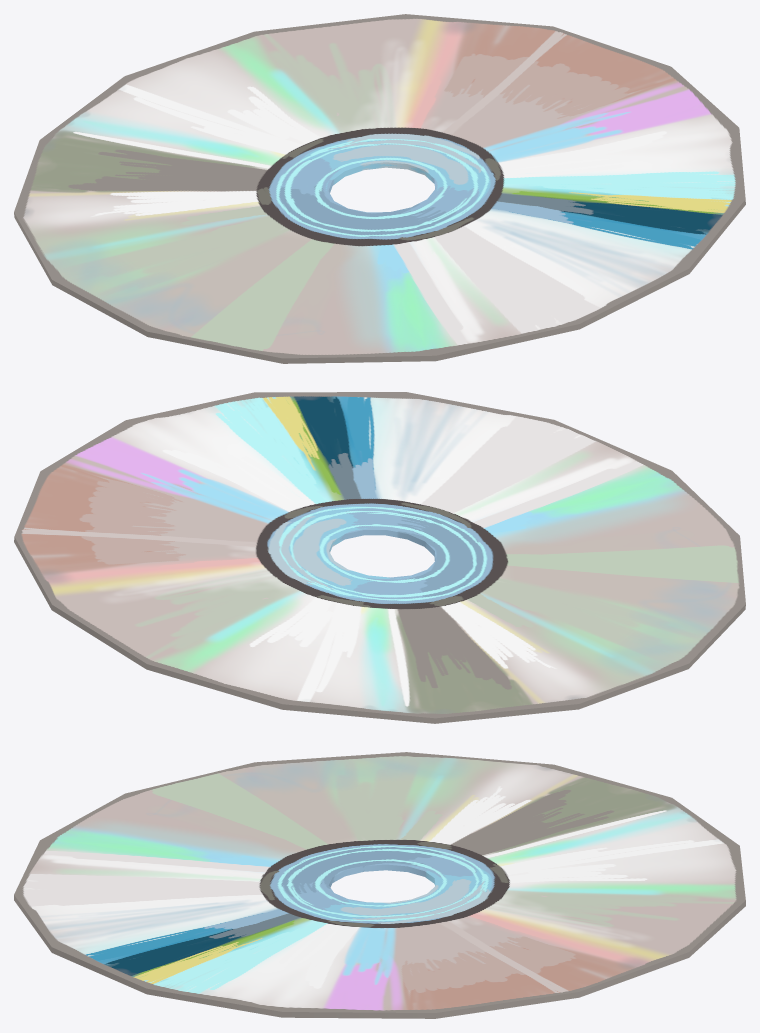
The model's file is lowpoly_cd.glb.
3 views of the same model, one above another, from view 1: azimuth 30°, elevation 25°; view 2: azimuth 150°, elevation 25°; view 3: azimuth 270°, elevation 25° (orthographic).
Visible parts, largest first — view 1: Object_2; view 2: Object_2; view 3: Object_2.
Part boxes in pixels (left/top/right/bottom): Object_2: left=14, top=14, right=745, bottom=363; Object_2: left=14, top=392, right=745, bottom=723; Object_2: left=14, top=752, right=745, bottom=1018.
Size of the model in its own units: 160 by 13.13 by 160.
1 material, 1 textured.
